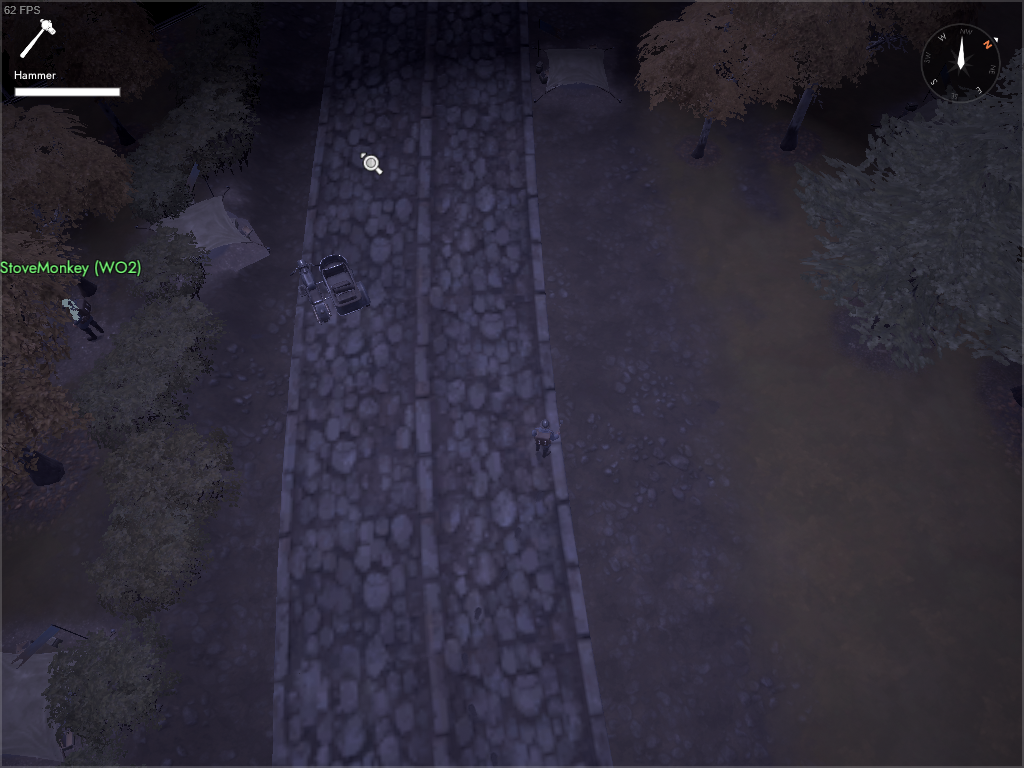foxhole: (131, 156, 279, 299), (1, 620, 107, 768), (523, 34, 630, 110)
motorcycle: (292, 250, 371, 329)
player: (59, 294, 107, 343), (529, 416, 562, 461)
